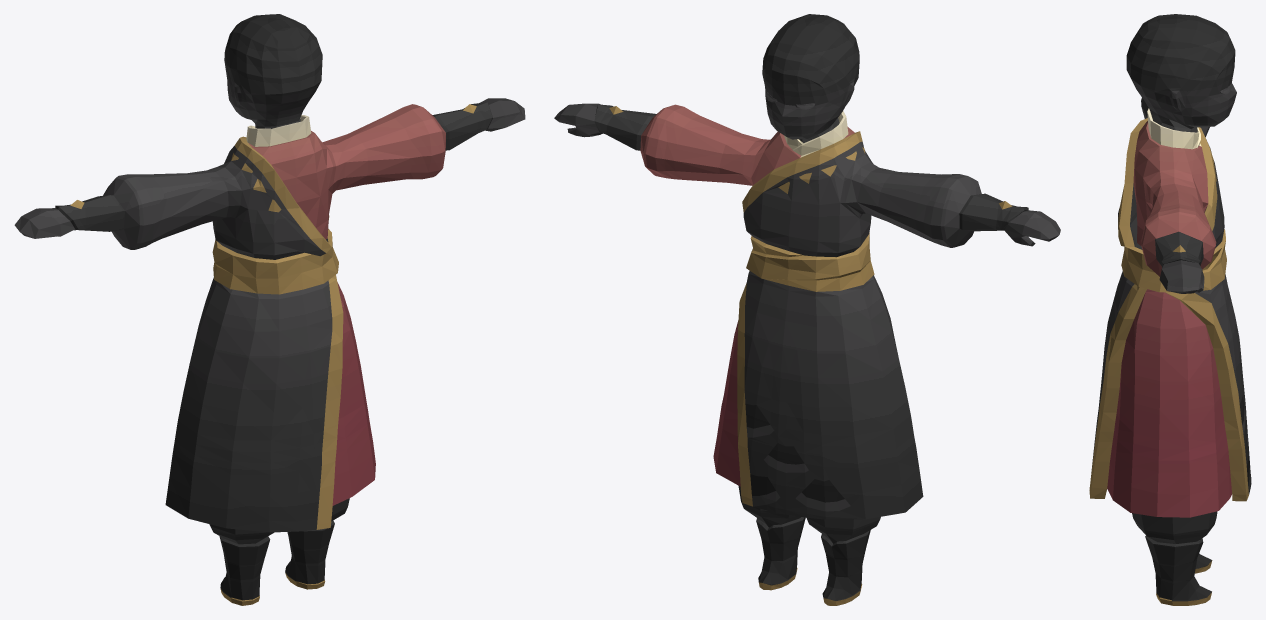
Rendered from CharSkyKid_Body_FortuneDragonRobe.glb.
3 renders of one model, left to right at view 1: azimuth 30°, elevation 25°; view 2: azimuth 150°, elevation 25°; view 3: azimuth 270°, elevation 25°, orthographic.
Parts seen in each view (by area): view 1: CharSkyKid_Body_FortuneDragonRobe; view 2: CharSkyKid_Body_FortuneDragonRobe; view 3: CharSkyKid_Body_FortuneDragonRobe.
Part boxes in pixels (x1,y1,x2,y2): CharSkyKid_Body_FortuneDragonRobe: (14, 14, 525, 605); CharSkyKid_Body_FortuneDragonRobe: (554, 14, 1060, 605); CharSkyKid_Body_FortuneDragonRobe: (1089, 14, 1251, 605).
Size of the model in its own units: 13.82 by 14.91 by 3.87.
1 material, 1 textured.
